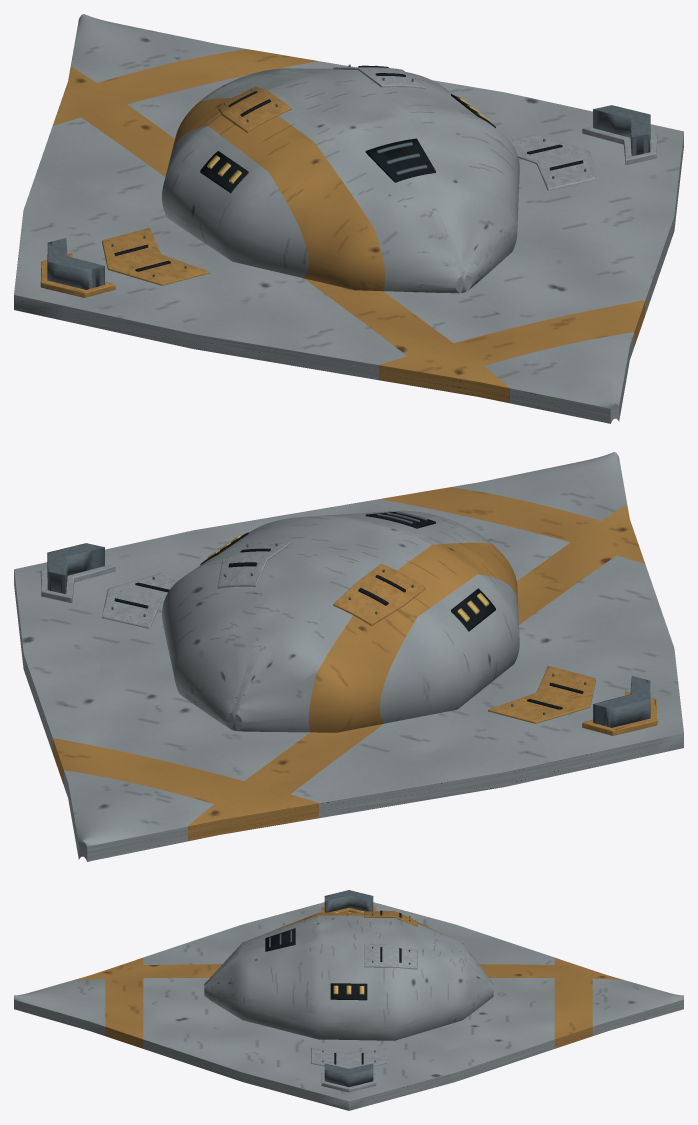
3 views of the same model, one above another, from view 1: azimuth 30°, elevation 25°; view 2: azimuth 150°, elevation 25°; view 3: azimuth 270°, elevation 25° (orthographic). The views are drawn at different scales.
Visible parts, largest first — view 1: PrimaryHullAndArmour, ServiceAssemblies, RecessedMachinery; view 2: PrimaryHullAndArmour, ServiceAssemblies, RecessedMachinery; view 3: PrimaryHullAndArmour, ServiceAssemblies, RecessedMachinery.
Boxes of the visible parts, x1,y1,x2,y2 form: PrimaryHullAndArmour: (14,14,683,423); ServiceAssemblies: (102,67,595,285); RecessedMachinery: (114,65,583,271); PrimaryHullAndArmour: (14,452,683,861); ServiceAssemblies: (102,541,595,723); RecessedMachinery: (114,512,583,709); PrimaryHullAndArmour: (14,890,683,1110); ServiceAssemblies: (311,911,417,1068); RecessedMachinery: (265,910,401,1064).
Bounding box in the file's own units: 3.2 × 0.76 × 4.4.
Materials: 1 (1 with a texture image).
